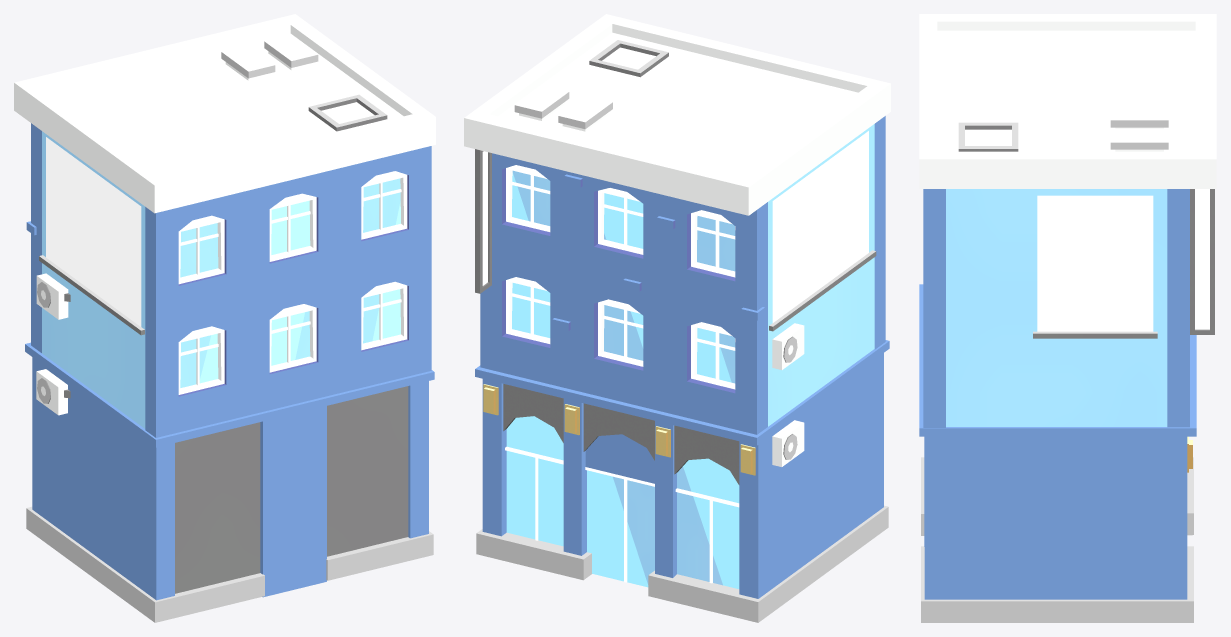
The model's file is hotel.008.glb.
3 renders of one model, left to right at view 1: azimuth 30°, elevation 25°; view 2: azimuth 150°, elevation 25°; view 3: azimuth 270°, elevation 25°, orthographic. The views are drawn at different scales.
Visible parts, largest first — view 1: hotel.008(Clone); view 2: hotel.008(Clone); view 3: hotel.008(Clone).
Part boxes in pixels (bbox=[...]): hotel.008(Clone): bbox=[14, 14, 435, 622]; hotel.008(Clone): bbox=[464, 14, 890, 622]; hotel.008(Clone): bbox=[919, 14, 1216, 622].
Size of the model in its own units: 6.1 by 8.99 by 5.16.
1 material, 1 textured.
